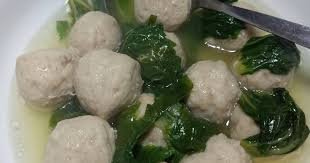bakso: (25, 6, 268, 163)
